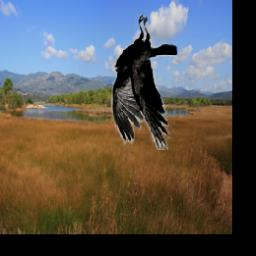Crow: (112, 11, 178, 150)
